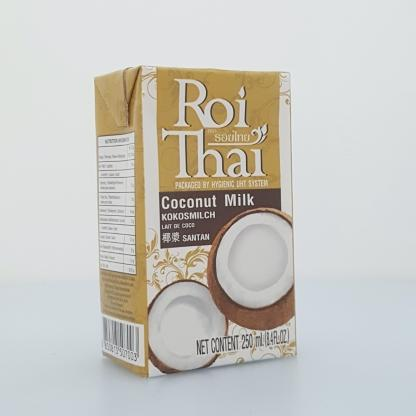-------------: (95, 66, 297, 377)
